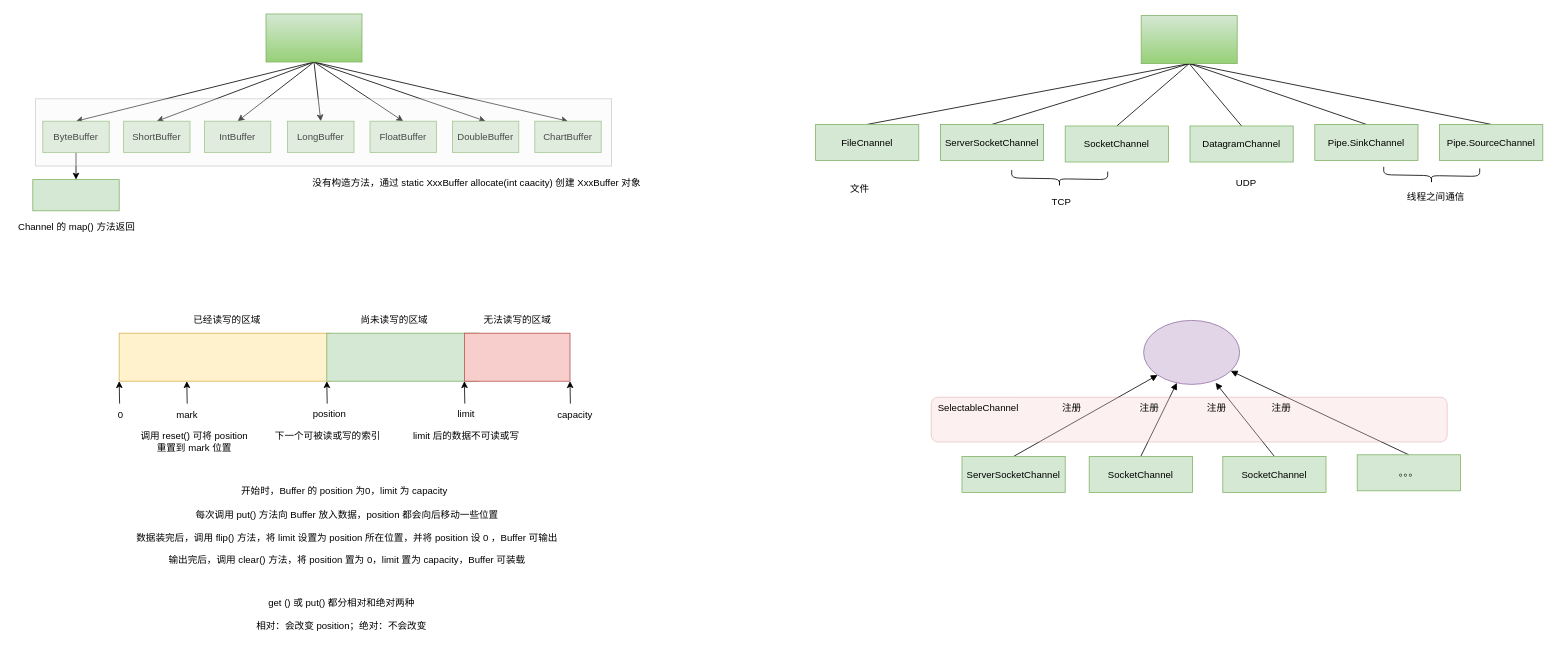
Some shapes in this 1557 by 646 pixel diagram are drawn without their labels. The centre of each missing label's shape, as x and y in pixels:
Buffer: the point at 313,37
Channel: the point at 1188,39
MappedByteBuffer: the point at 75,195
Selector: the point at 1191,352
